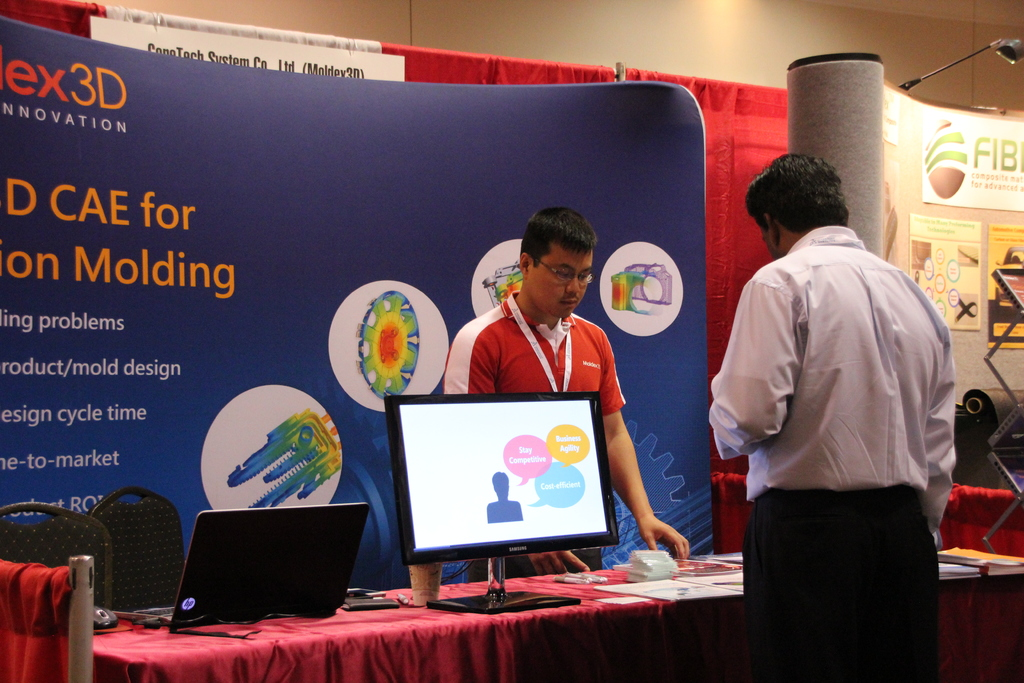Laptop: (164, 508, 372, 634)
